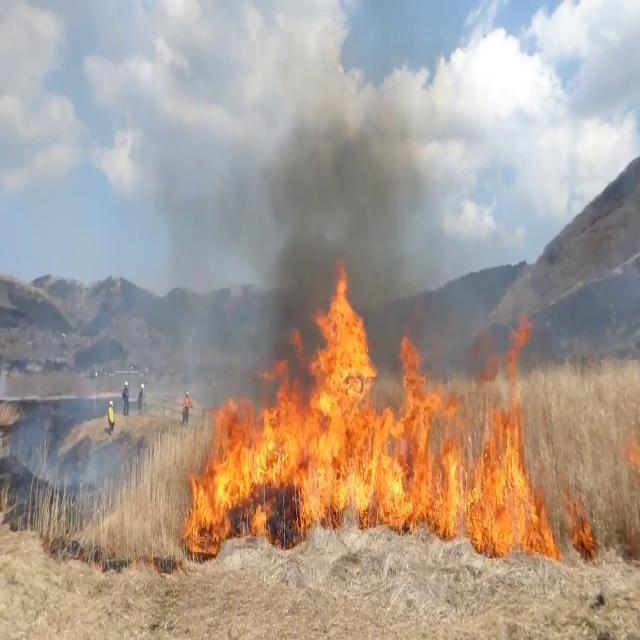Fire: (182, 266, 558, 544)
Smoke: (137, 82, 447, 386)
